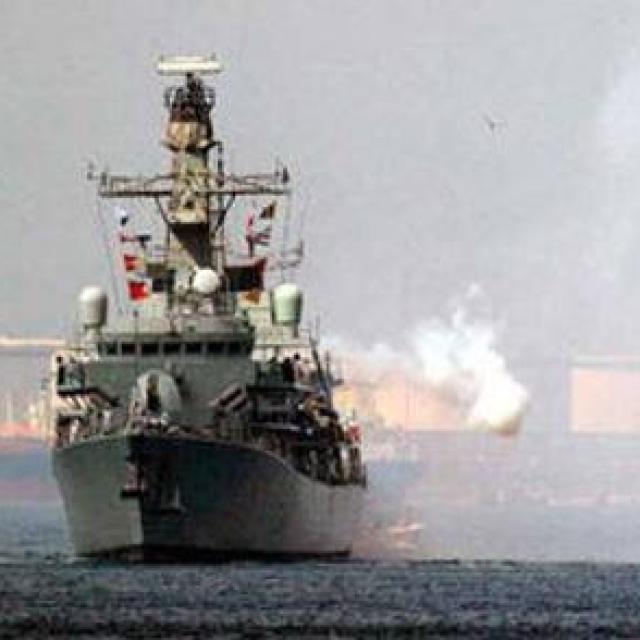navalvessels: (39, 40, 384, 576)
